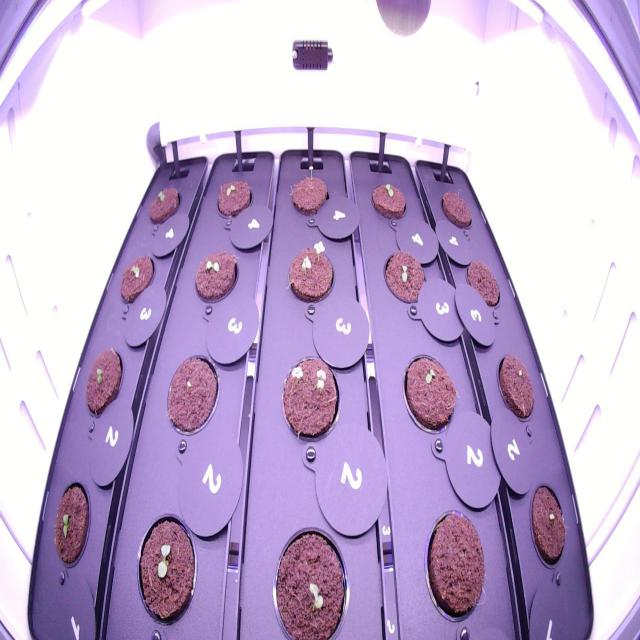germination: (268, 520, 356, 636), (127, 509, 202, 629), (277, 348, 346, 452), (397, 346, 464, 446), (49, 472, 95, 578), (281, 237, 338, 312), (80, 339, 126, 424), (377, 244, 434, 312), (191, 244, 242, 312), (284, 161, 332, 220), (116, 246, 159, 310), (212, 173, 256, 228), (366, 174, 411, 226), (143, 181, 184, 229)
pod: (416, 503, 491, 629), (159, 347, 222, 445), (523, 474, 571, 573), (492, 346, 538, 428), (461, 253, 505, 318), (436, 180, 477, 237)
